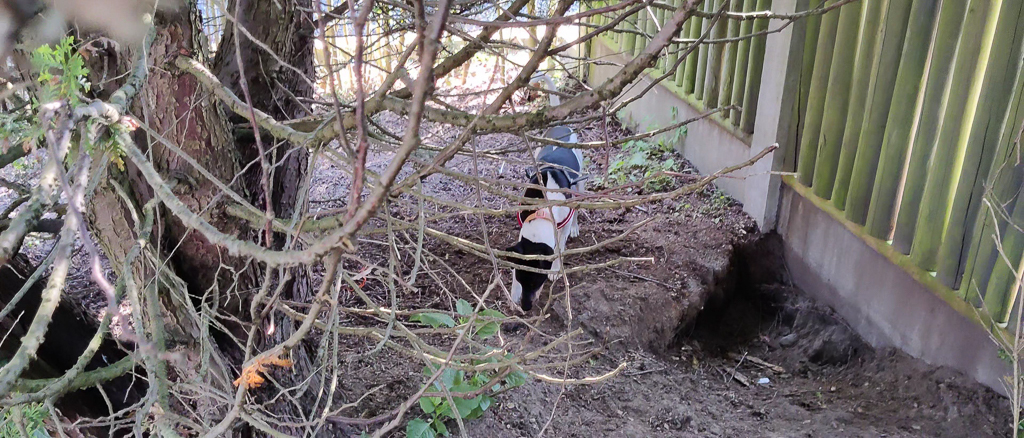Dog: (495, 56, 595, 321)
